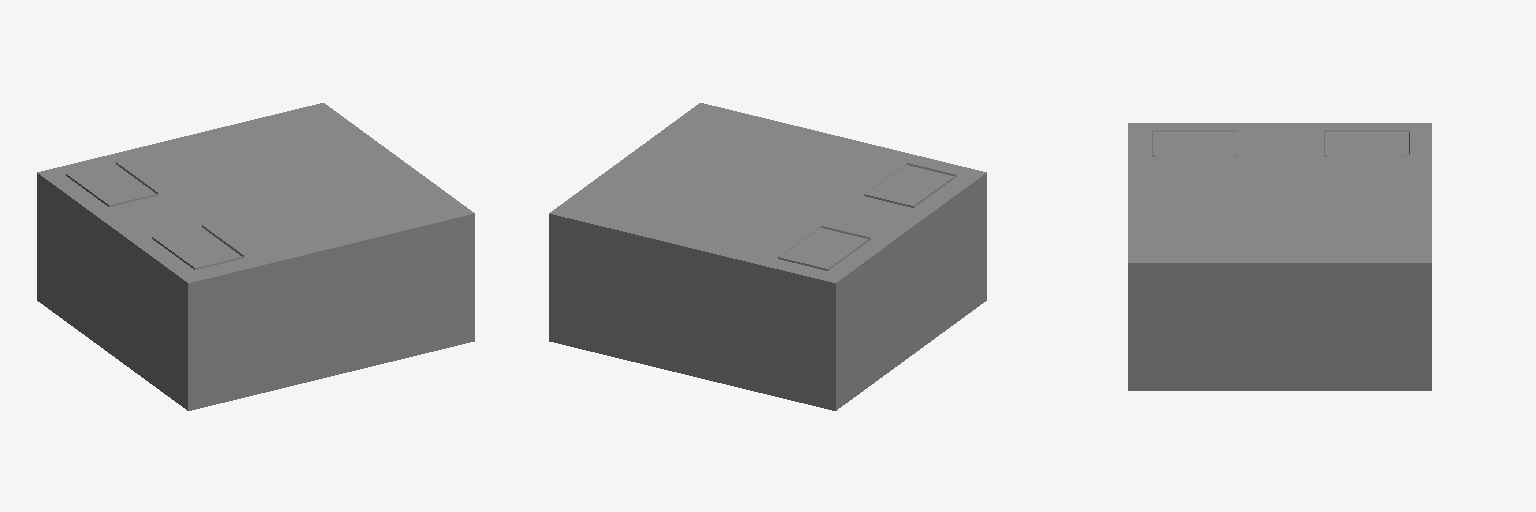
The model's file is sp_pplant01.obj.
The picture shows the model from 3 angles: view 1: azimuth 30°, elevation 25°; view 2: azimuth 150°, elevation 25°; view 3: azimuth 270°, elevation 25°; orthographic projection.
Visible parts, largest first — view 1: (null); view 2: (null); view 3: (null).
Part boxes in pixels (x1,y1,x2,y2): (null): (37, 103, 474, 410); (null): (549, 103, 986, 410); (null): (1128, 123, 1431, 390).
Size of the model in its own units: 46.91 by 20.29 by 42.95.